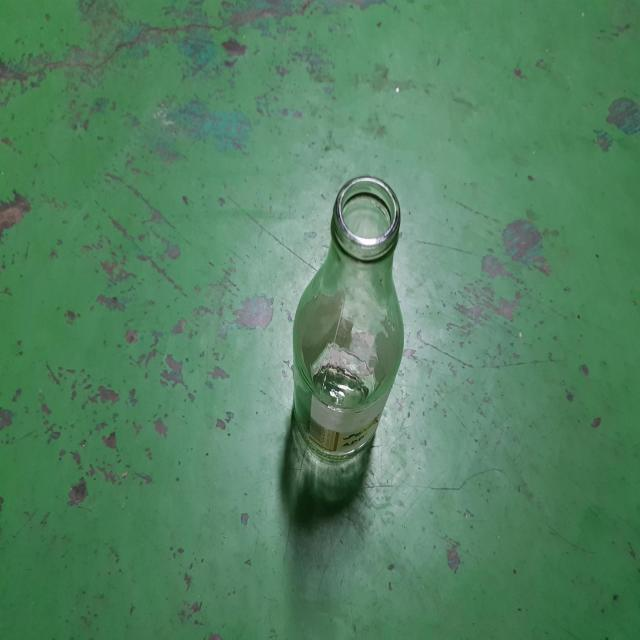glass: (293, 176, 404, 459)
